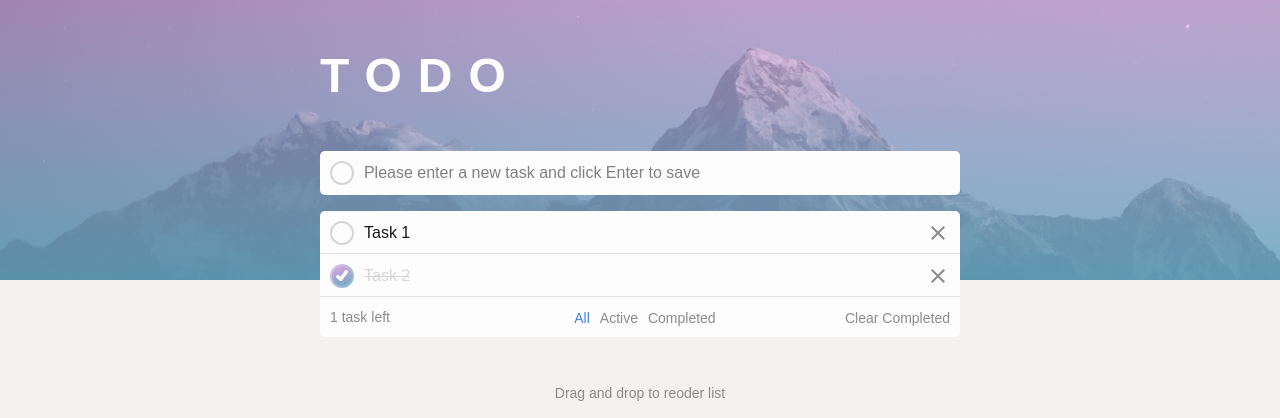
Test: to-do app › can check a task as completed
Check the checkbox labelled "Task 1": (342, 233) [330,221,354,245]
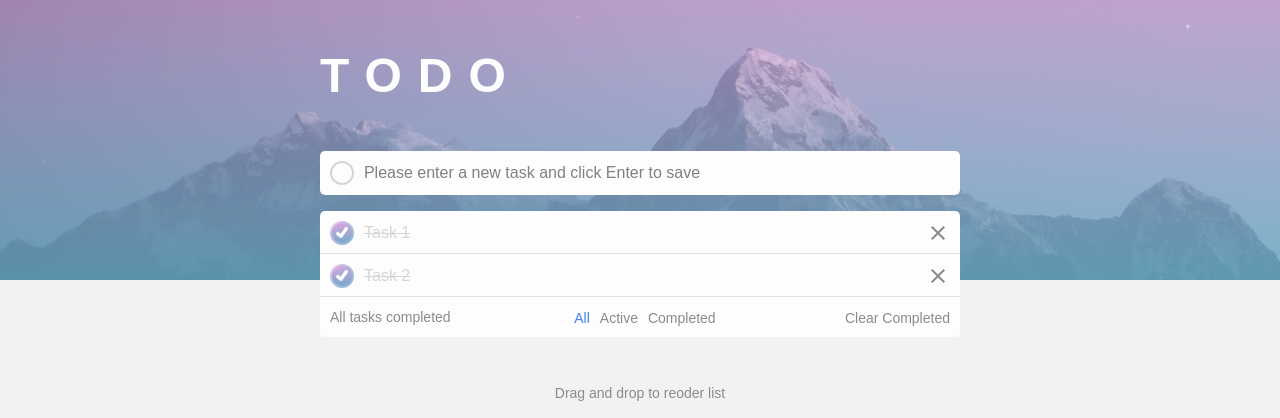
Result: the text "All tasks completed" is shown at [330,309,455,327]
